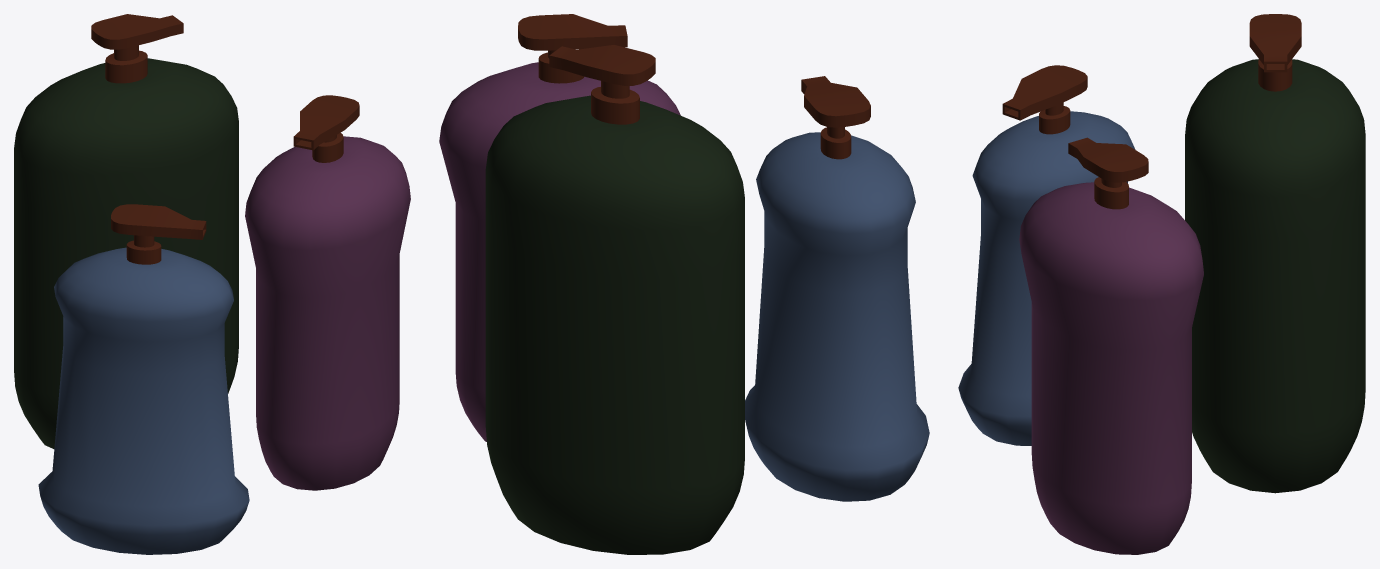
The model's file is Shampoings.fbx.
3 views of the same model, side by side, from view 1: azimuth 30°, elevation 25°; view 2: azimuth 150°, elevation 25°; view 3: azimuth 270°, elevation 25° (orthographic). The views are drawn at different scales.
Visible parts, largest first — view 1: Shampoings; view 2: Shampoings; view 3: Shampoings.
Part boxes in pixels (bbox=[...]): Shampoings: bbox=[14, 14, 410, 554]; Shampoings: bbox=[439, 14, 929, 554]; Shampoings: bbox=[958, 14, 1365, 554].
Bounding box in the file's own units: 26.93 × 27.87 × 23.8.
